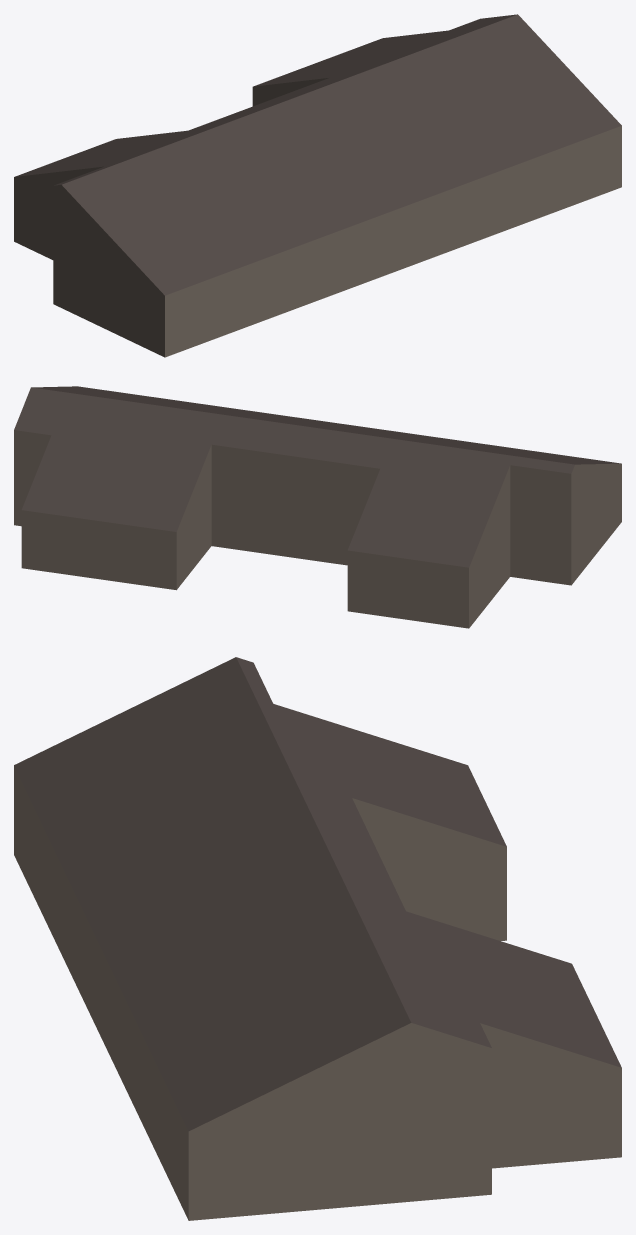
3 renders of one model, top to bottom at view 1: azimuth 30°, elevation 25°; view 2: azimuth 150°, elevation 25°; view 3: azimuth 270°, elevation 25°, orthographic. The views are drawn at different scales.
Parts seen in each view (by area): view 1: HP-w228035329; view 2: HP-w228035329; view 3: HP-w228035329.
Part boxes in pixels (<box>): HP-w228035329: <box>14,14,621,357</box>; HP-w228035329: <box>14,386,621,628</box>; HP-w228035329: <box>14,657,621,1220</box>.
Size of the model in its own units: 27.8 by 6 by 18.48.
